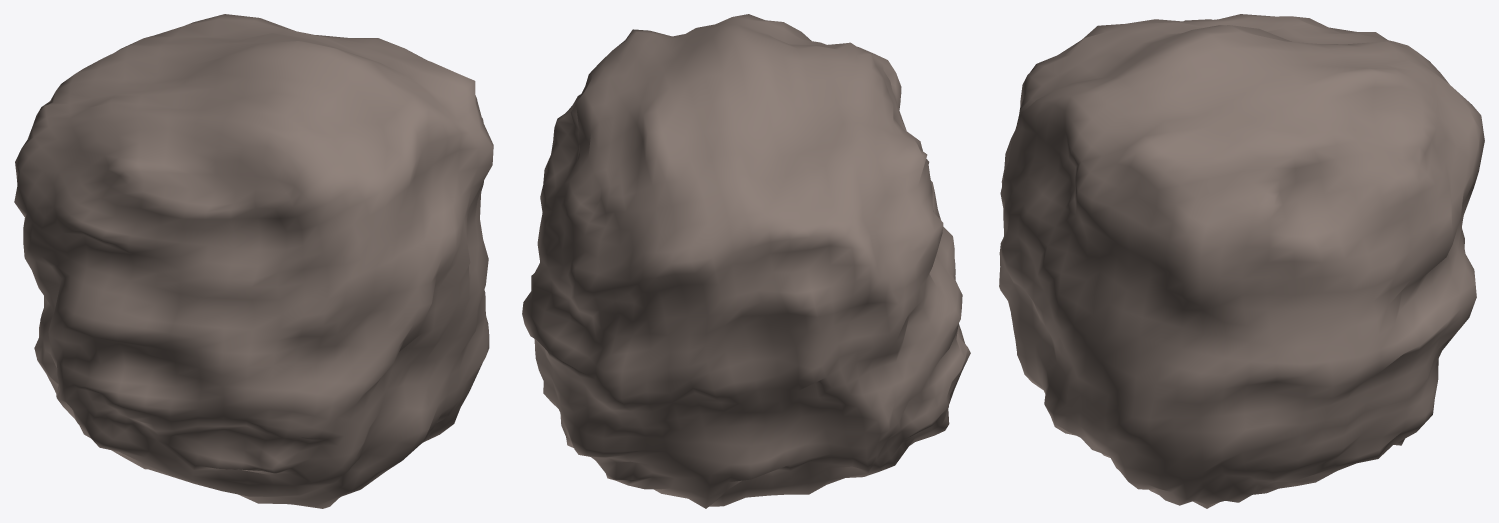
File: Asteroid1_LOD.fbx
3 renders of one model, left to right at view 1: azimuth 30°, elevation 25°; view 2: azimuth 150°, elevation 25°; view 3: azimuth 270°, elevation 25°, orthographic. The views are drawn at different scales.
Visible parts, largest first — view 1: Asteroid1_LOD0; view 2: Asteroid1_LOD0; view 3: Asteroid1_LOD0.
Part boxes in pixels (box(x1,y1,x2,y2)): Asteroid1_LOD0: box(14, 14, 493, 508); Asteroid1_LOD0: box(522, 14, 970, 508); Asteroid1_LOD0: box(999, 14, 1484, 508).
Size of what is drawn, in the model's own units: 1511 by 1555 by 1523.
